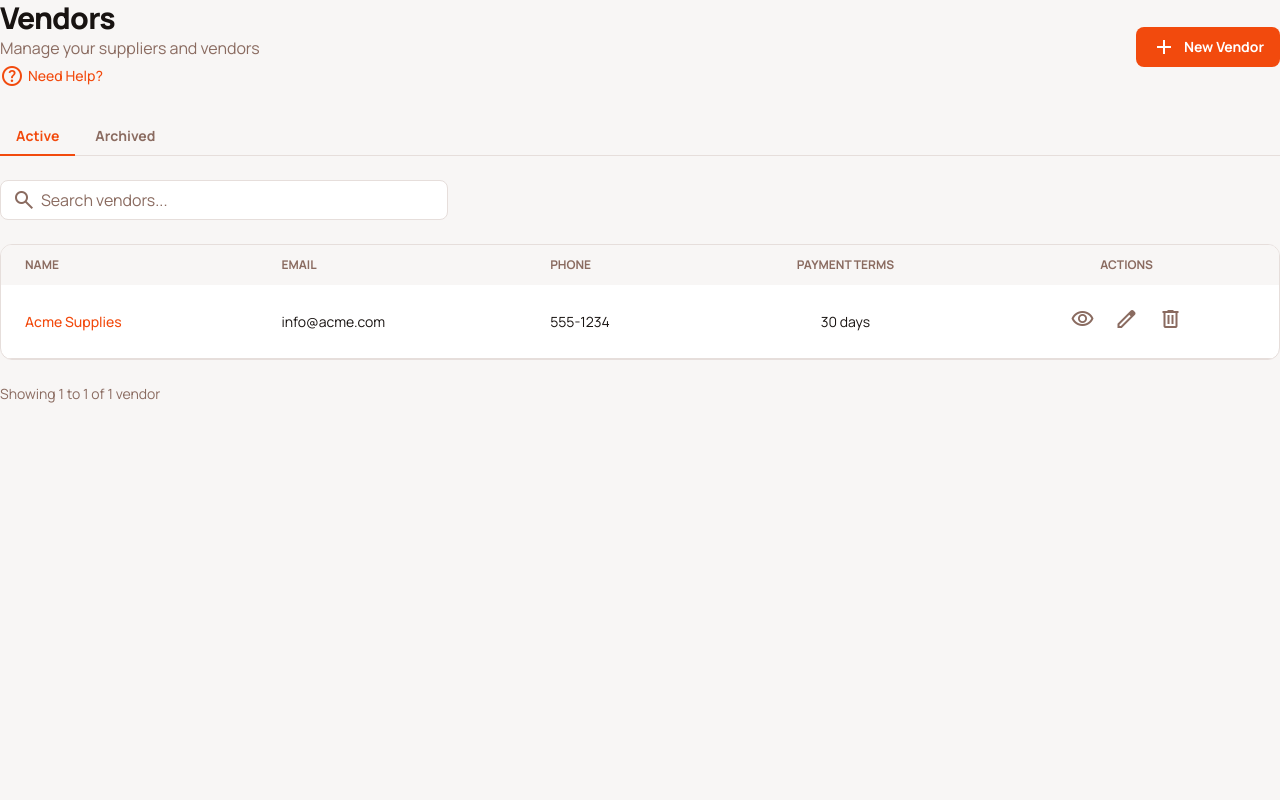
Test: VendorListPage › delete functionality › shows loading state on confirm button during deletion
Click the button with test id "vendor-delete-vendor-loading-delete".
click(1171, 322)  # box 1153,301 -> 1189,342
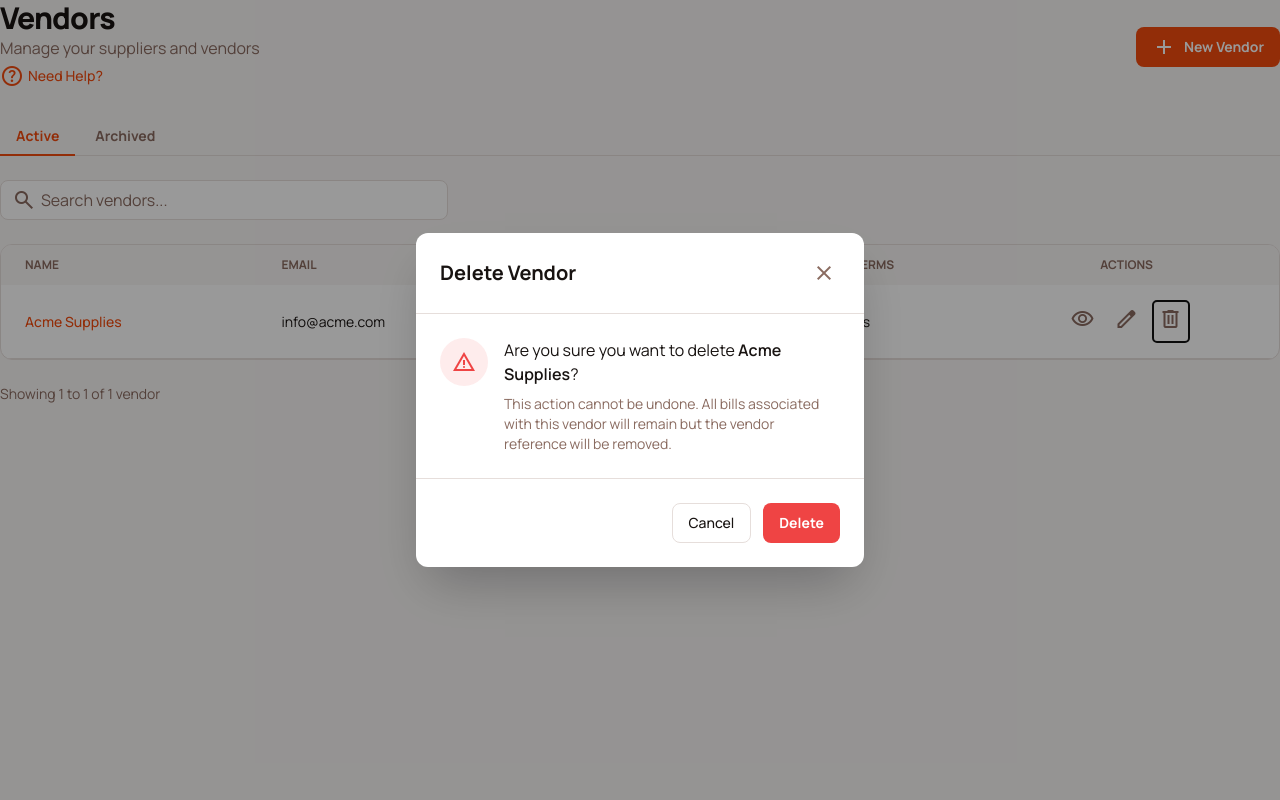
Click the button with test id "delete-confirm-button".
click(802, 523)  # box 763,503 -> 840,543
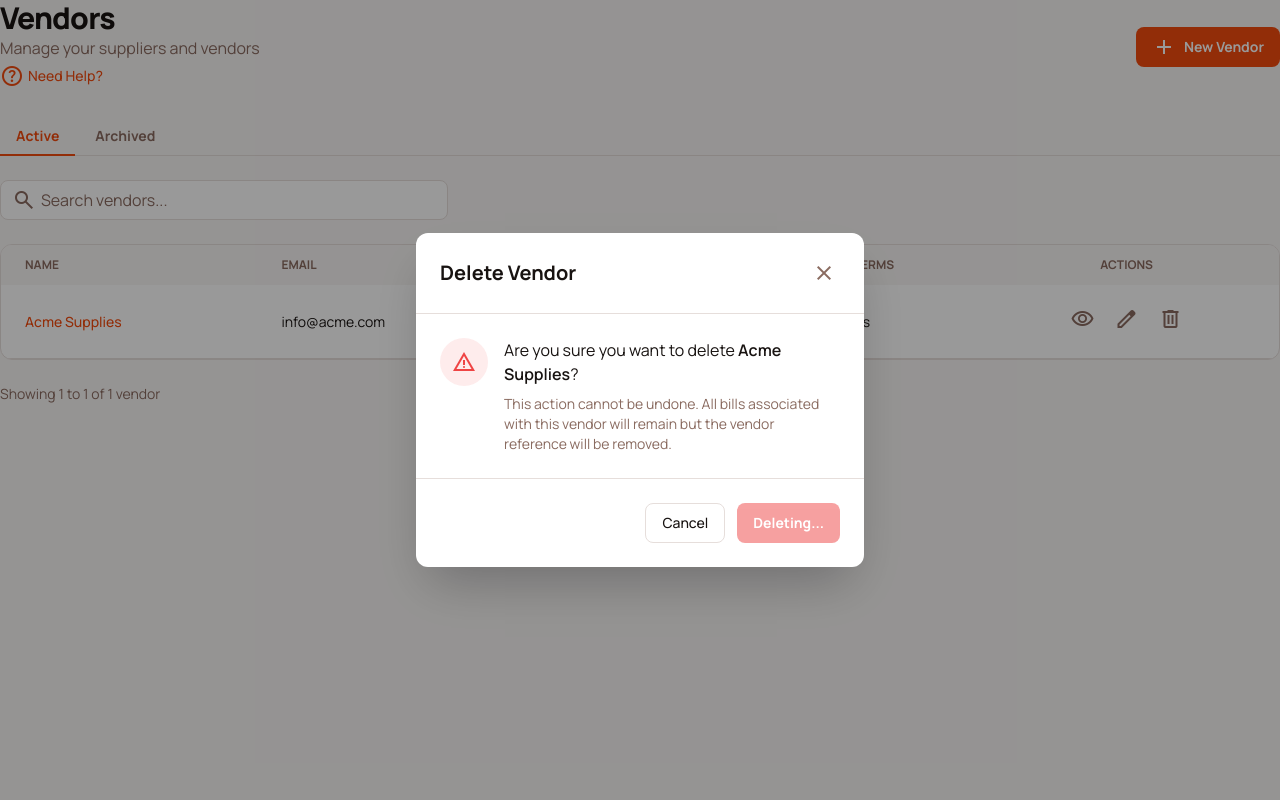
Result: the button with test id "delete-confirm-button" reads "Deleting..." at 737,503 -> 840,543
Result: the button with test id "delete-confirm-button" is disabled at 737,503 -> 840,543
